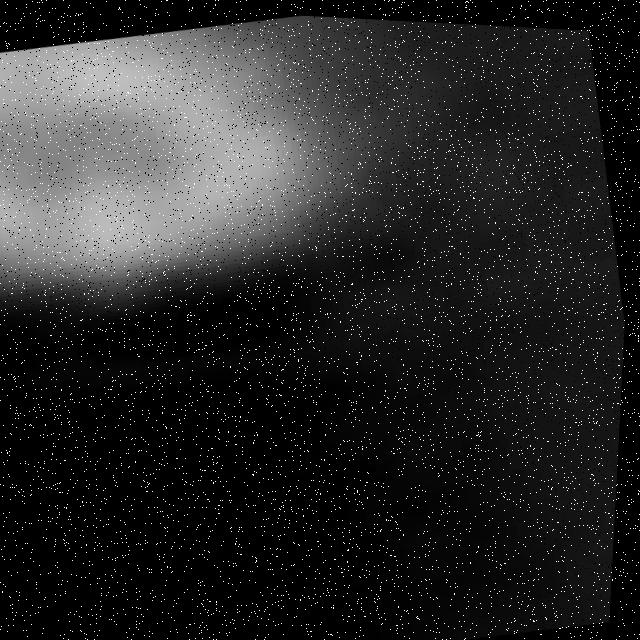person: (1, 1, 429, 329)
